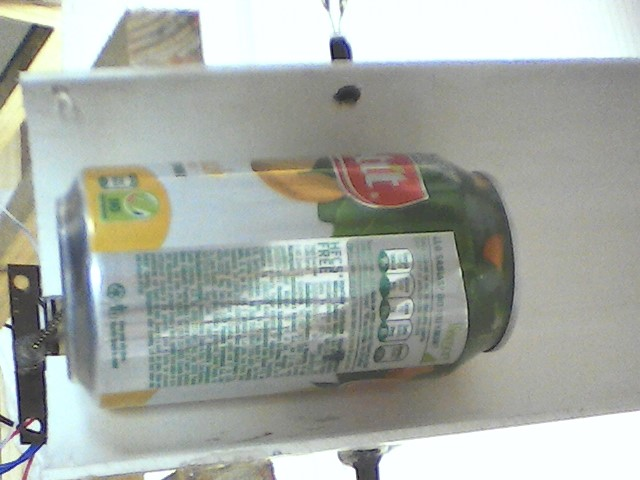lata: (51, 148, 526, 415)
